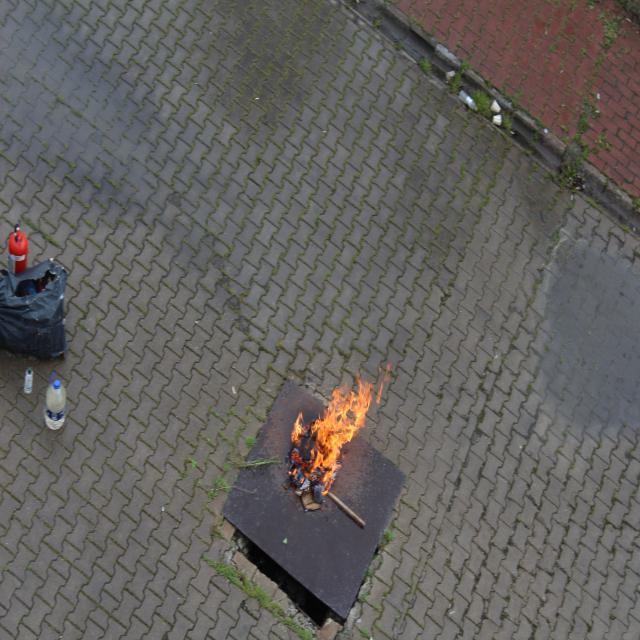fire: (276, 347, 388, 515)
